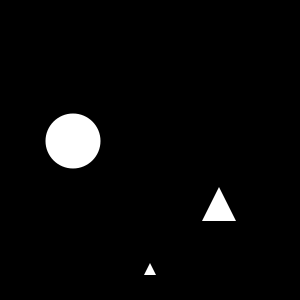rectangle: (46, 113, 100, 168)
triangle: (202, 187, 236, 221), (144, 263, 156, 275)
